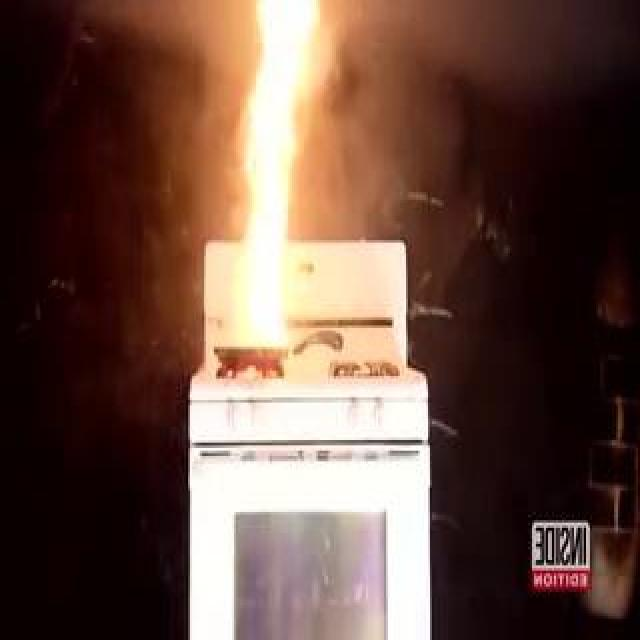Fire: (208, 3, 324, 357)
